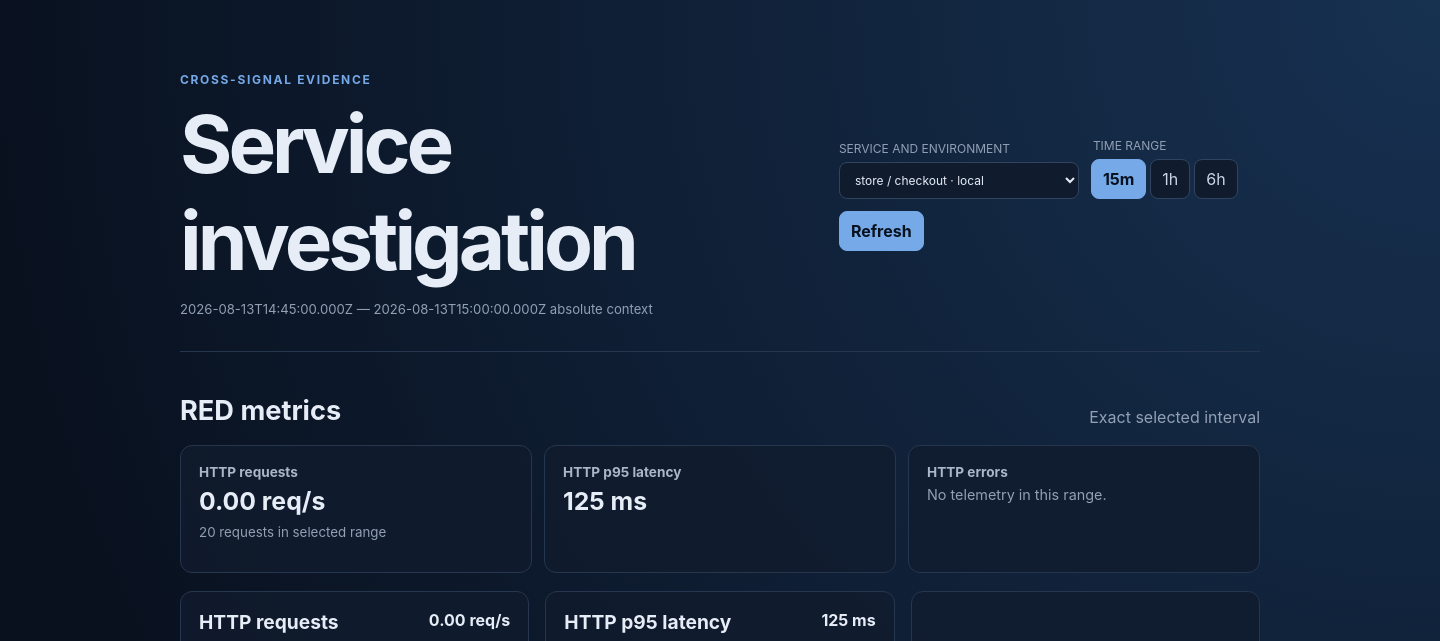
Test: Service investigation › never presents the previous identity while a new service is loading
Expected: the text "20 requests in selected range" is shown, [199, 524, 386, 540]
Select "checkout · staging" in the dropdown labelled "Service and environment": (959, 180) [839, 162, 1079, 199]
(page scrolled)
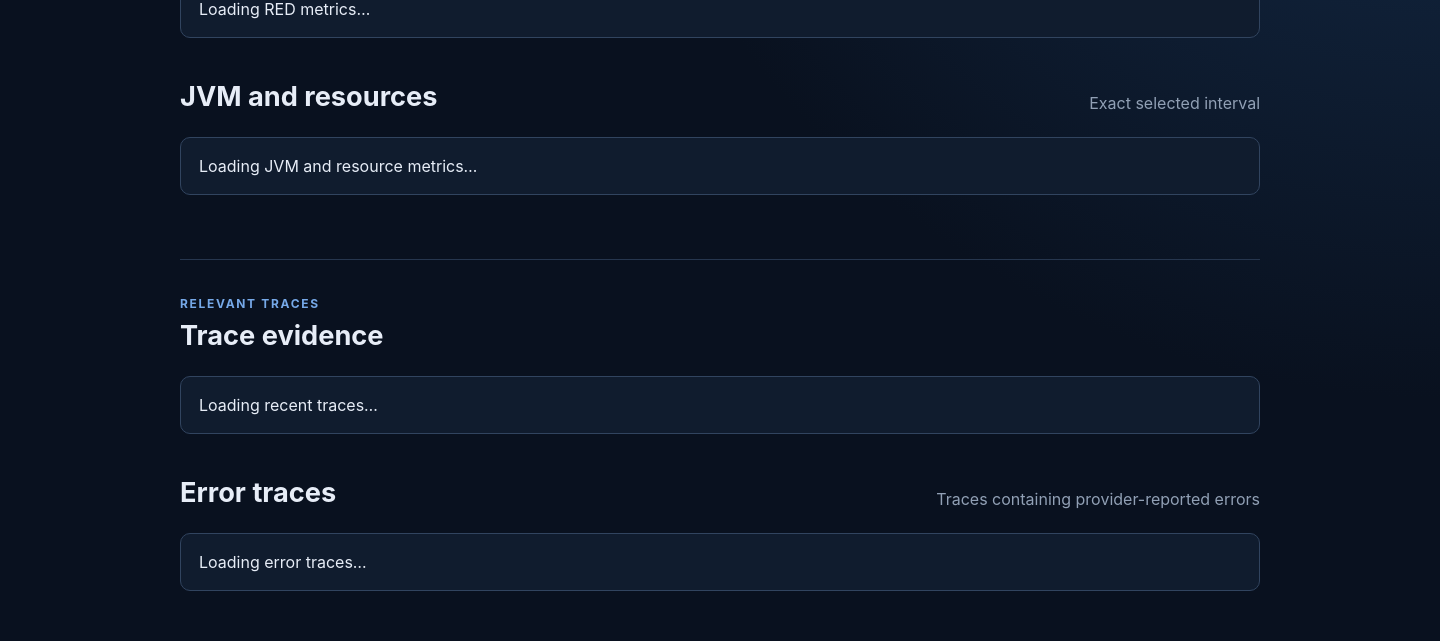
Result: the text "Loading recent traces…" is shown at [180, 376, 1260, 434]
Result: the text "20 requests in selected range" is gone
